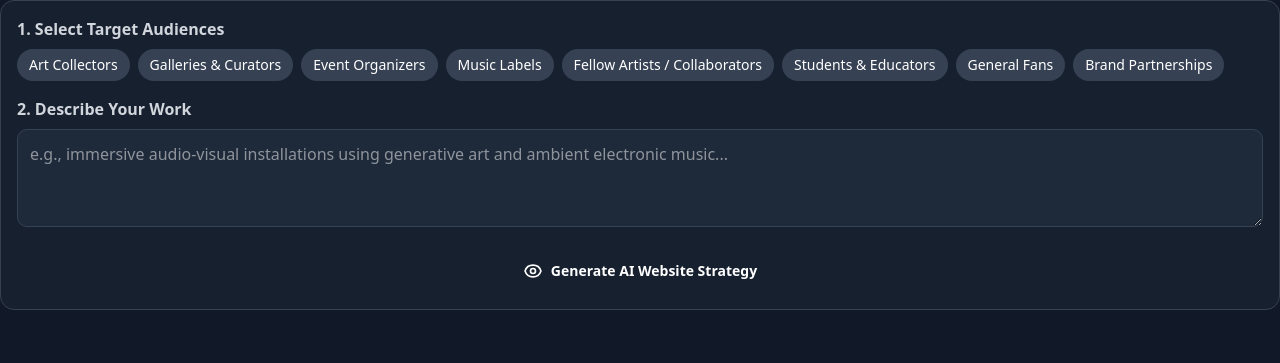
it: AI Features MVP Test Suite › Website Strategy Generator › should show error when inputs missing
This screenshot has width=1280, height=363.
Click the button "Generate AI Website Strategy" at (640, 271), box 17,249 -> 1263,293
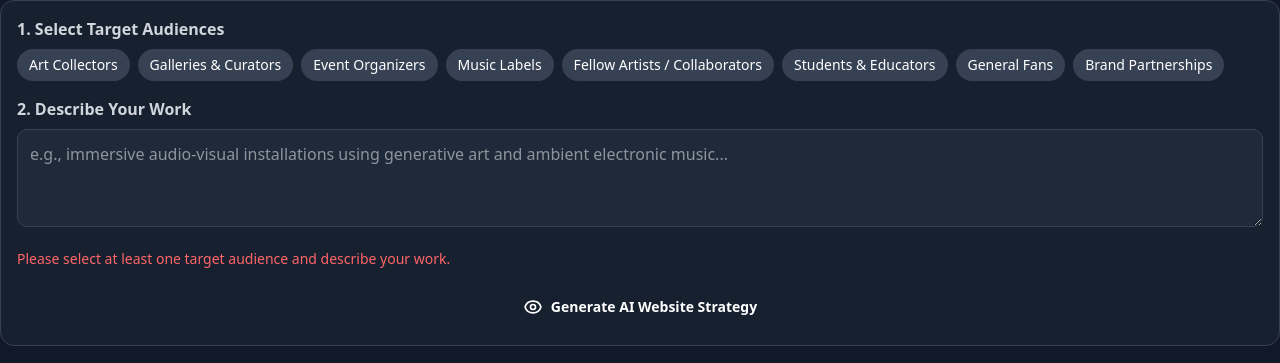
Check: the text "Please select at least one target audience and describe your work" is shown, box 17,249 -> 450,268
